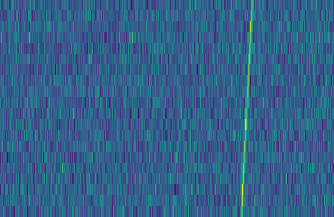signal: (238, 0, 258, 217)
